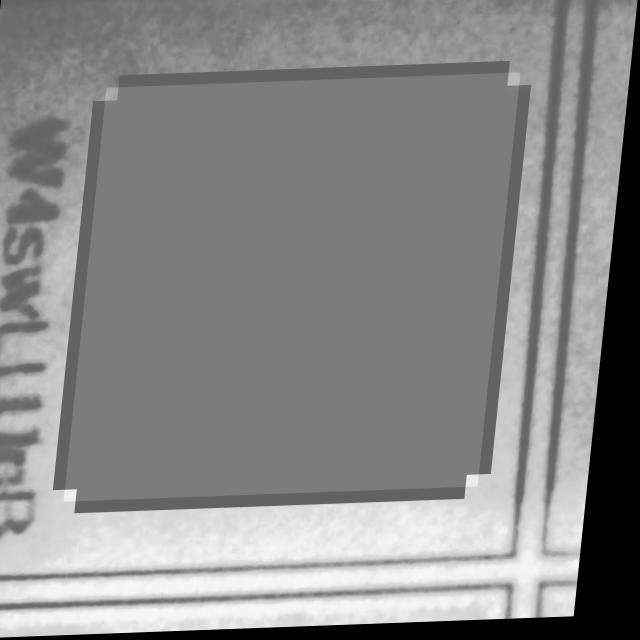qr_code: (74, 77, 521, 503)
